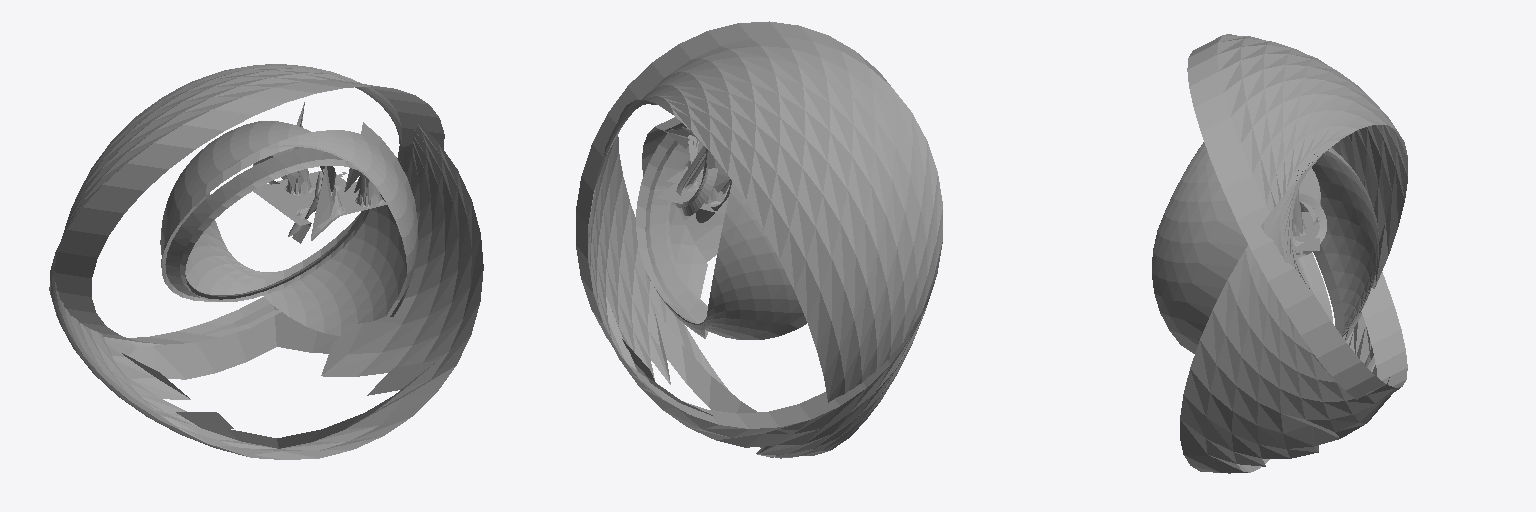
The model's file is modelscape-smooth.obj.
3 views of the same model, side by side, from view 1: azimuth 30°, elevation 25°; view 2: azimuth 150°, elevation 25°; view 3: azimuth 270°, elevation 25° (orthographic).
Parts seen in each view (by area): view 1: Plane; view 2: Plane; view 3: Plane.
Boxes of the visible parts, x1,y1,x2,y2 form: Plane: [49, 64, 483, 459]; Plane: [576, 21, 942, 458]; Plane: [1152, 34, 1407, 473].
Bounding box in the file's own units: 32.36 × 32.6 × 19.45.